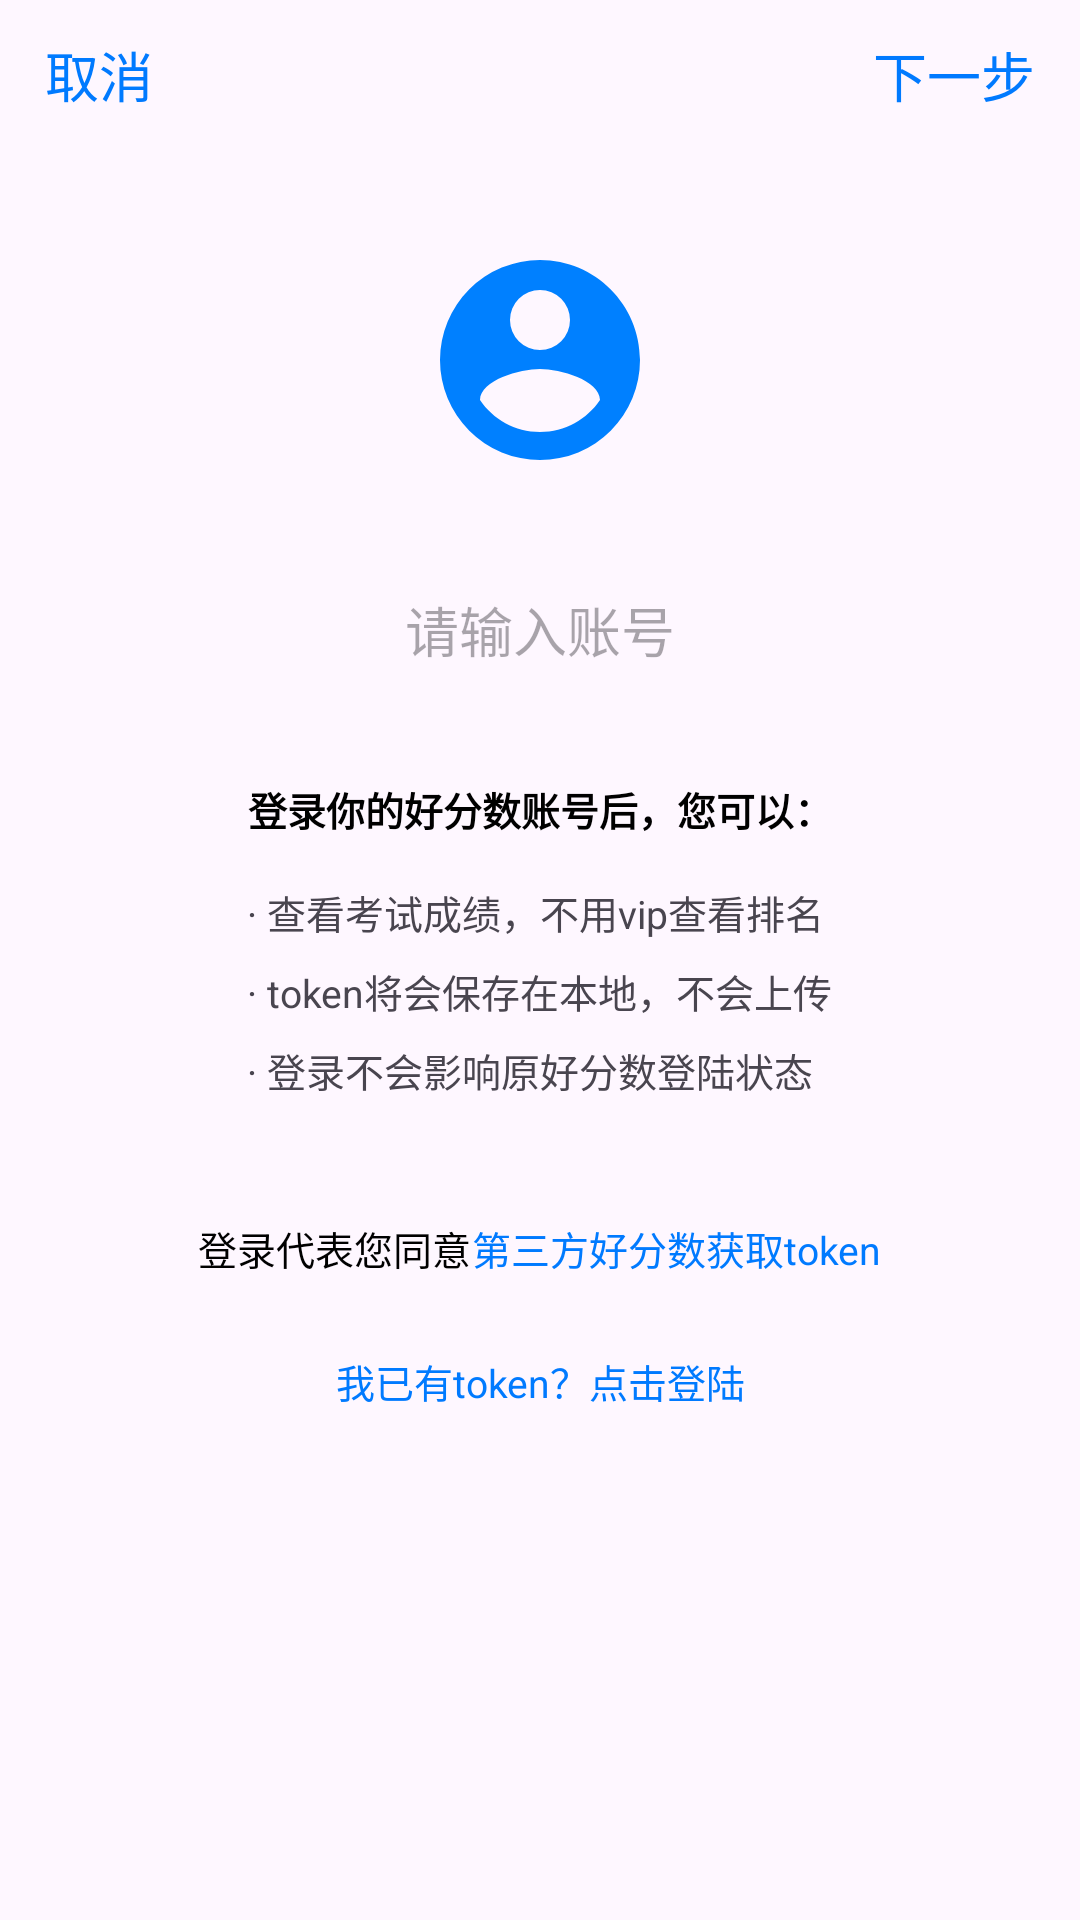

Where to tap for icons on this 1080px×1920px app screen, as [x,y]:
login: [540,360]
